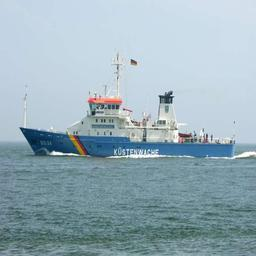Ship: (15, 82, 239, 163)
